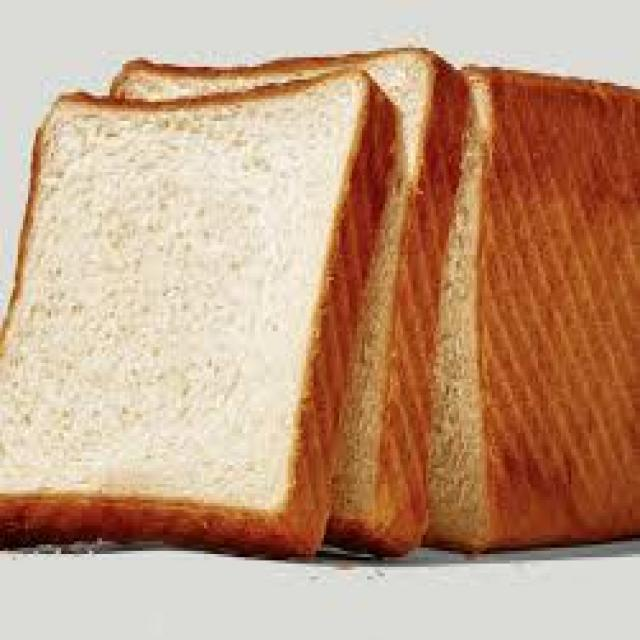organic waste: (94, 38, 470, 554), (0, 64, 390, 554), (418, 60, 638, 551)
